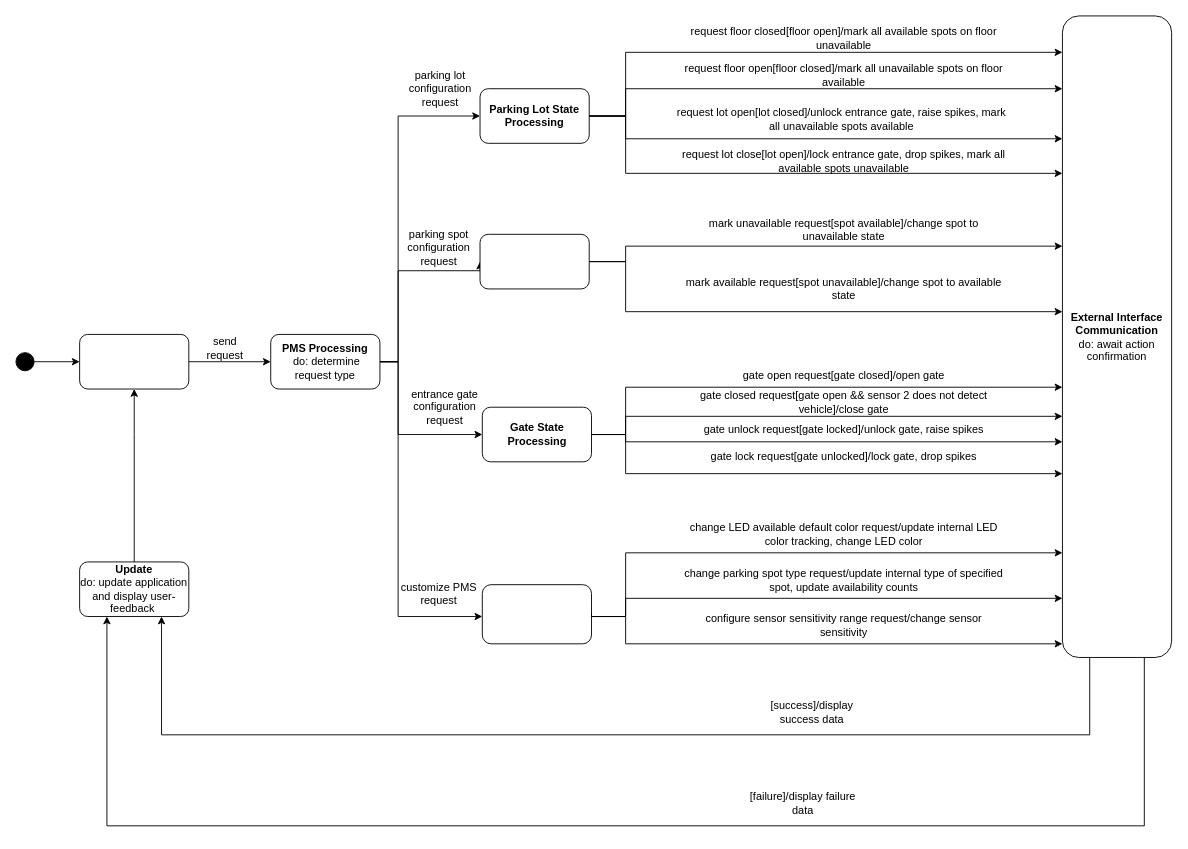
Some shapes in this 1188 by 849 pixel diagram are drawn without their labels. Each missing label, with the centre of its shape:
"Admin Main Control do: await admin request" belongs at (134,361).
"Parking Spot State Processing" belongs at (534,261).
"PMS Customization Processing" belongs at (536,614).
